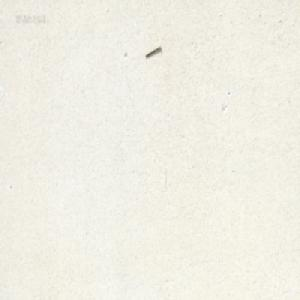Bolt: (144, 44, 160, 57)
